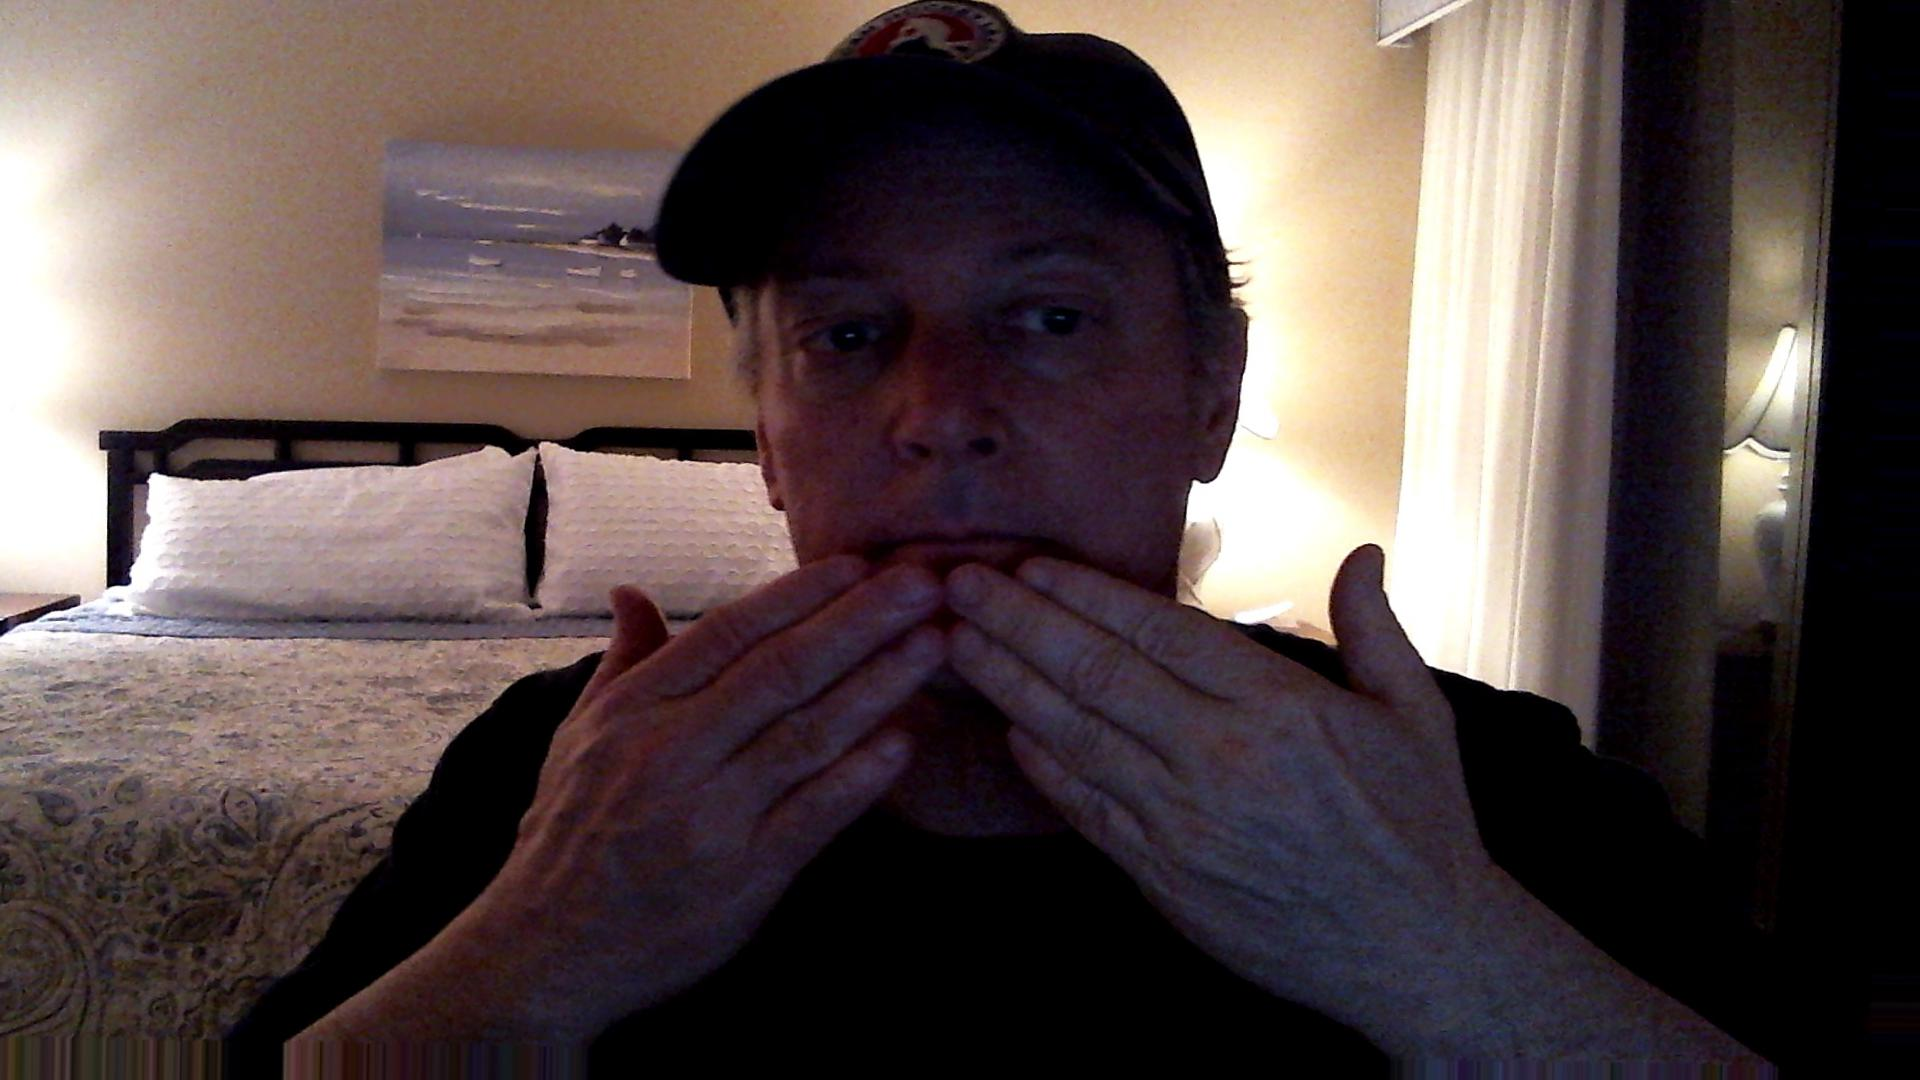Thank You: (533, 520, 1497, 978)
